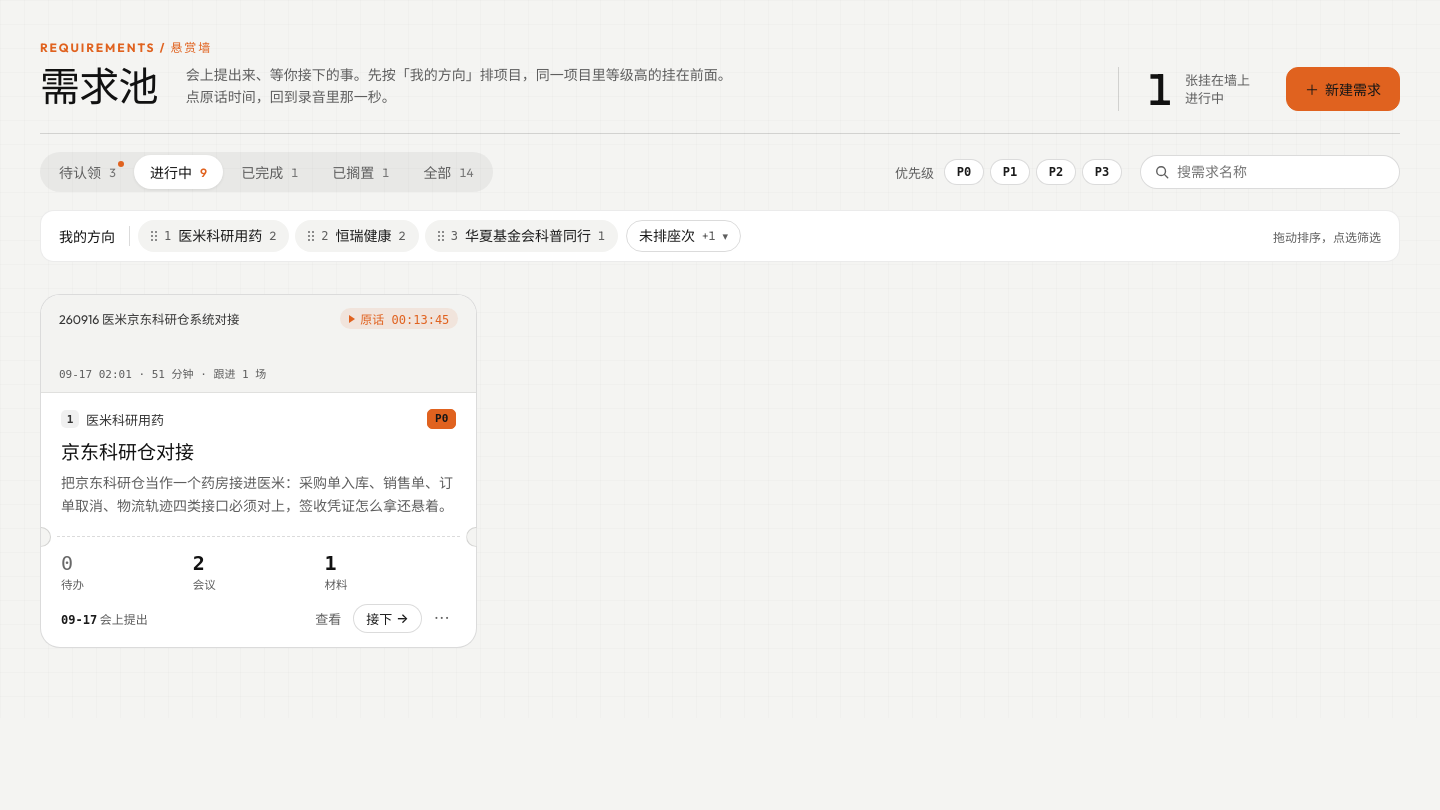
RequirementPoolPage › 拖动座次后整排保存，提示「座次已保存」
Expected: the element named "需求：京东科研仓对接" is shown, [40,294,477,648]
Click the button "未排座次 +1 ▾": (684, 236) [626,220,741,252]
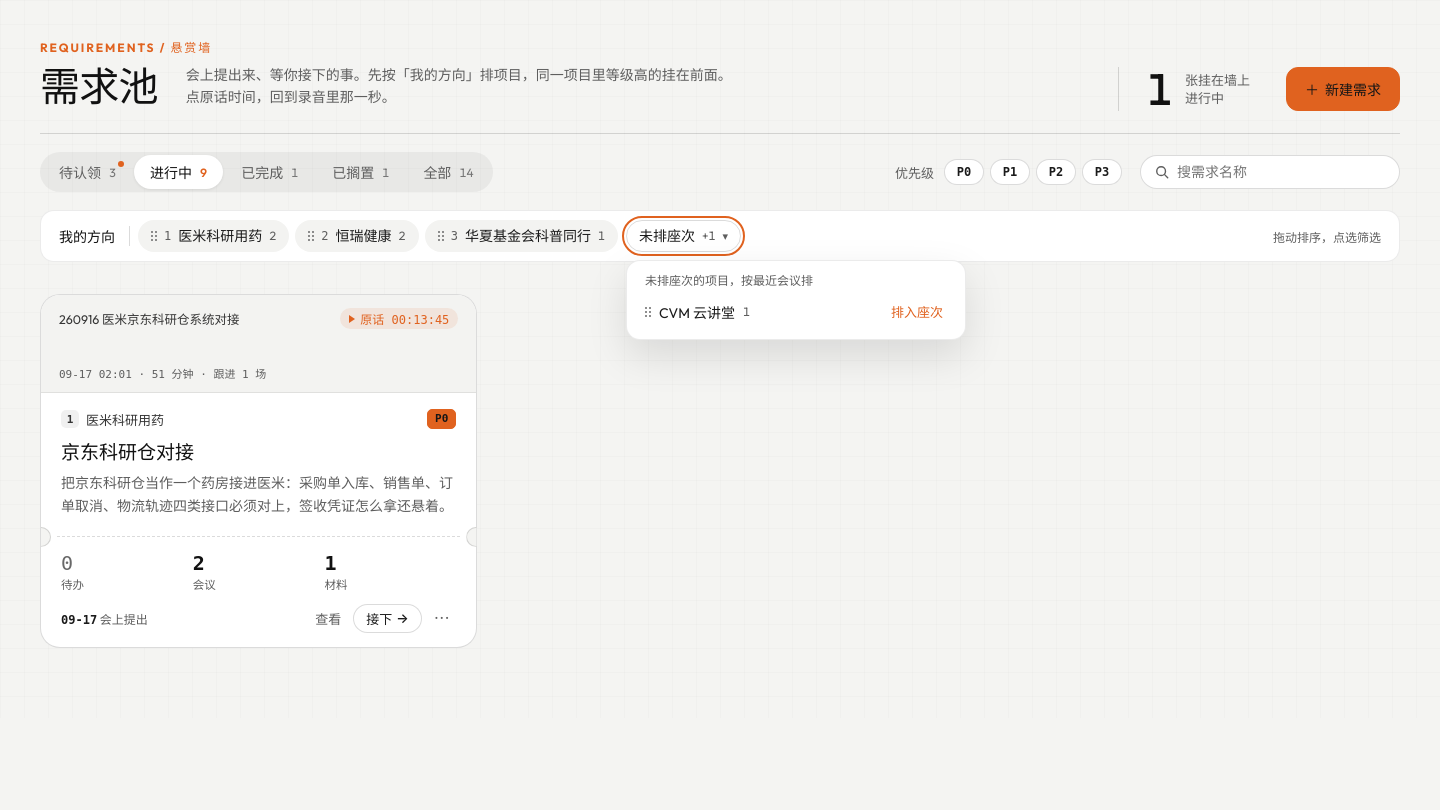
Click the button "排入座次": (917, 312) [887,300,947,323]
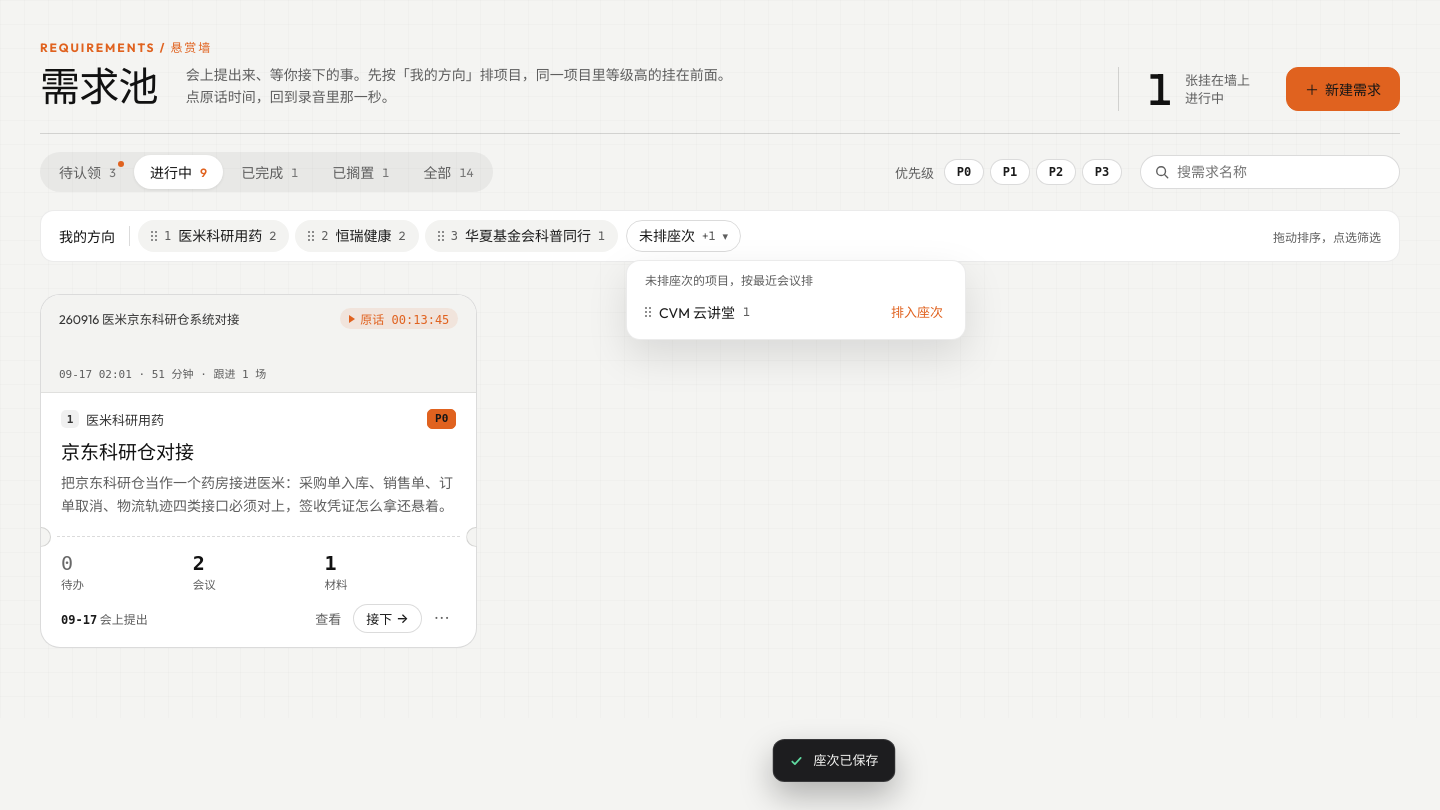
Result: the message reads "座次已保存" at [814,752,878,768]
